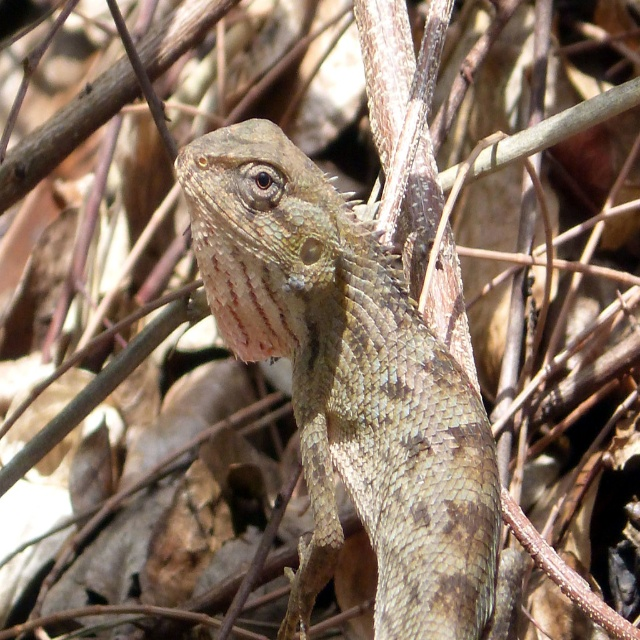Lizard: (164, 120, 550, 640)
